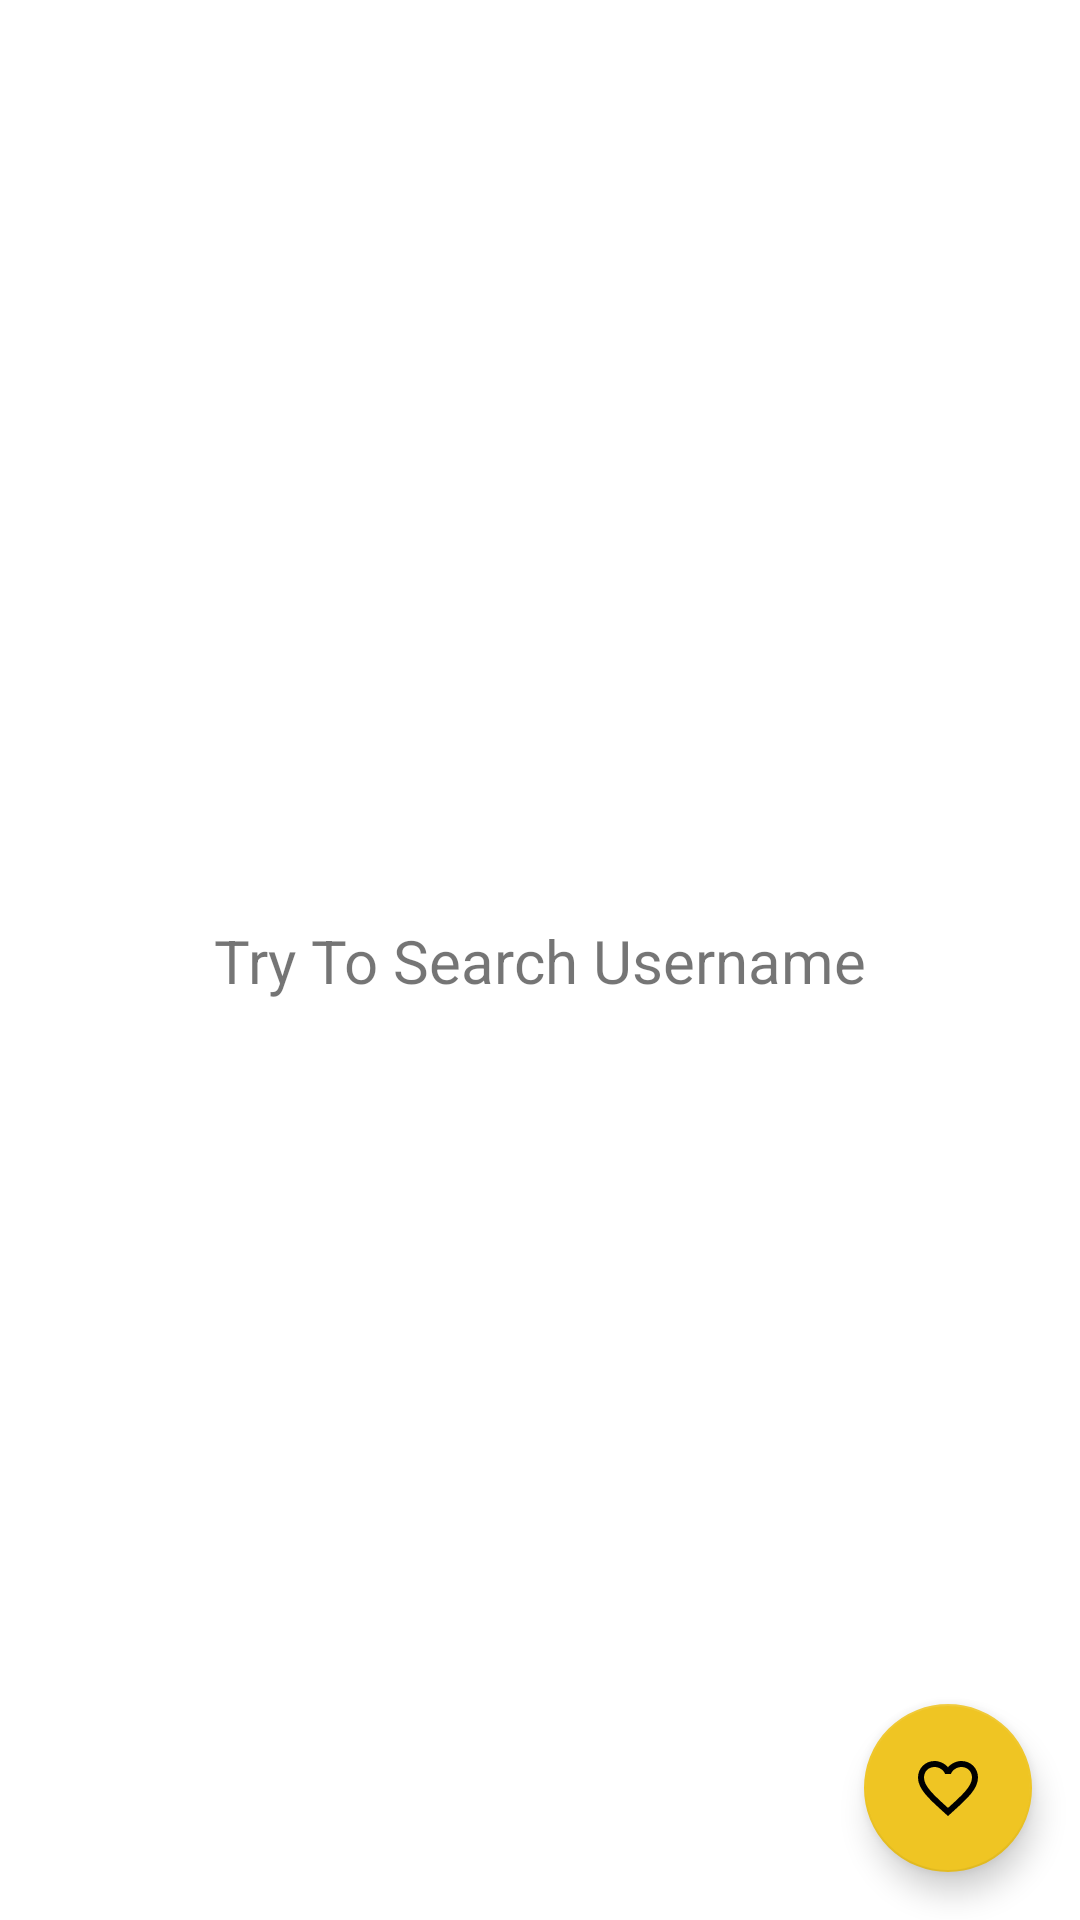

Icon bounding boxes for this 1080x1920 phone screenshot, format [x1=x1, y1=y1, x2=x2, y2=y2]:
favorite border: [x1=864, y1=1704, x2=1032, y2=1872]
